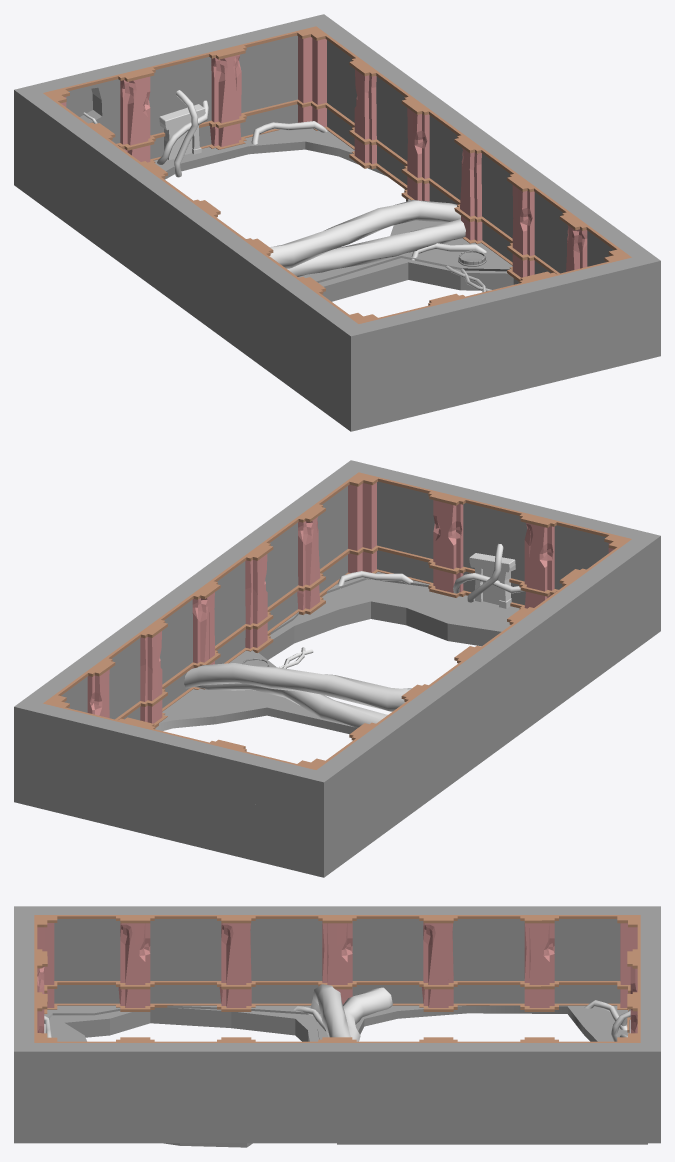
The model's file is salle03_present_mapUnity (4).fbx.
3 renders of one model, top to bottom at view 1: azimuth 30°, elevation 25°; view 2: azimuth 150°, elevation 25°; view 3: azimuth 270°, elevation 25°, orthographic. The views are drawn at different scales.
Visible parts, largest first — view 1: polySurface235, polySurface204, mur_porte9, mur_porte8, polySurface212, polySurface158, polySurface214, mur_pillier_detruit206, mur_sans_trou2, mur_sans_trou5, mur_pillier_detruit205, mur_sans_trou4 (+12 smaller); view 2: polySurface212, polySurface159, mur_porte8, pPlane5, mur_porte9, polySurface235, polySurface214, polySurface158, mur_sans_trou4, mur_pillier_detruit205, mur_sans_trou5, mur_pillier_detruit206 (+10 smaller); view 3: polySurface203, polySurface236, mur_pillier_detruit203, mur_sans_trou2, mur_sans_trou3, mur_pillier_detruit204, mur_pillier_detruit205, mur_sans_trou5, mur_sans_trou4, mur_pillier_detruit206, polySurface214, polySurface158 (+10 smaller).
Part boxes in pixels (x1,y1,x2,y2): polySurface235: (534, 255, 660, 382); polySurface204: (351, 297, 460, 431); mur_porte9: (443, 274, 551, 404); mur_porte8: (124, 41, 231, 162); polySurface212: (215, 14, 323, 146); polySurface158: (14, 90, 106, 230); polySurface214: (287, 283, 362, 431); mur_pillier_detruit206: (129, 167, 212, 307); mur_sans_trou2: (357, 60, 439, 200); mur_sans_trou5: (77, 128, 159, 269); mur_pillier_detruit205: (235, 244, 317, 385); mur_sans_trou4: (182, 205, 264, 346); polySurface212: (14, 701, 140, 828); polySurface159: (214, 743, 323, 877); mur_porte8: (123, 720, 231, 850); pPlane5: (229, 572, 519, 704); mur_porte9: (443, 487, 550, 609); polySurface235: (351, 460, 459, 594); polySurface214: (568, 536, 660, 676); polySurface158: (311, 729, 387, 877); mur_sans_trou4: (462, 613, 545, 753); mur_pillier_detruit205: (515, 574, 597, 715); mur_sans_trou5: (357, 690, 439, 831); mur_pillier_detruit206: (410, 651, 492, 792); polySurface203: (539, 1037, 660, 1143); polySurface236: (14, 1037, 135, 1143); mur_pillier_detruit203: (337, 1037, 438, 1143); mur_sans_trou2: (438, 1037, 539, 1143); mur_sans_trou3: (236, 1037, 337, 1143); mur_pillier_detruit204: (135, 1037, 236, 1143); mur_pillier_detruit205: (135, 906, 236, 1011); mur_sans_trou5: (438, 906, 539, 1011); mur_sans_trou4: (236, 906, 337, 1011); mur_pillier_detruit206: (337, 906, 438, 1011); polySurface214: (14, 906, 135, 1011); polySurface158: (539, 906, 660, 1011).
Size of the model in its own units: 1700 by 591 by 3200.
